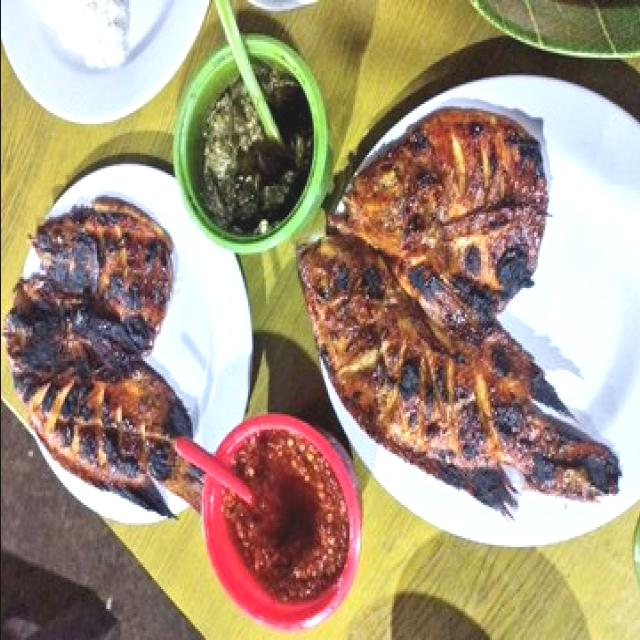ikan bakar: (295, 104, 624, 516)
